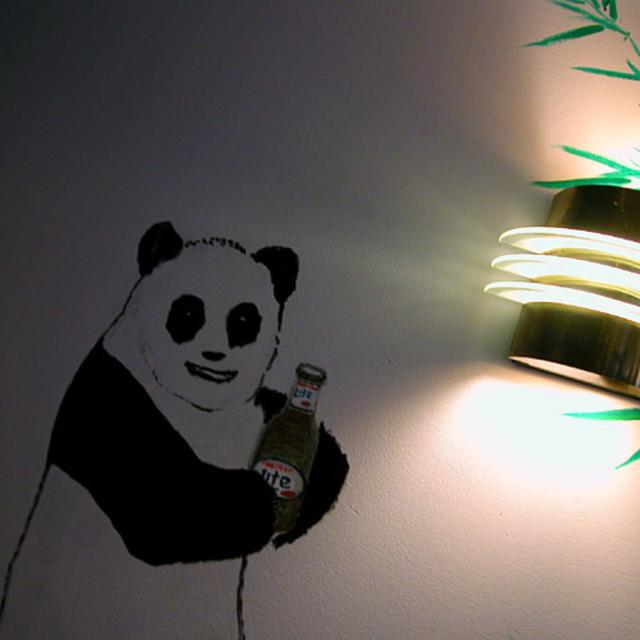panda: (3, 218, 353, 636)
